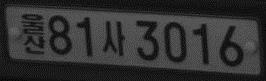0: (162, 21, 187, 63)
1: (191, 21, 210, 65), (75, 15, 94, 57)
3: (134, 19, 159, 60)
6: (218, 24, 244, 67)
8: (48, 14, 72, 55)
사: (101, 19, 125, 57)
울산_V: (20, 12, 45, 55)
